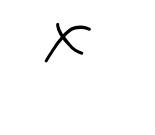mult: (44, 22, 90, 64)
